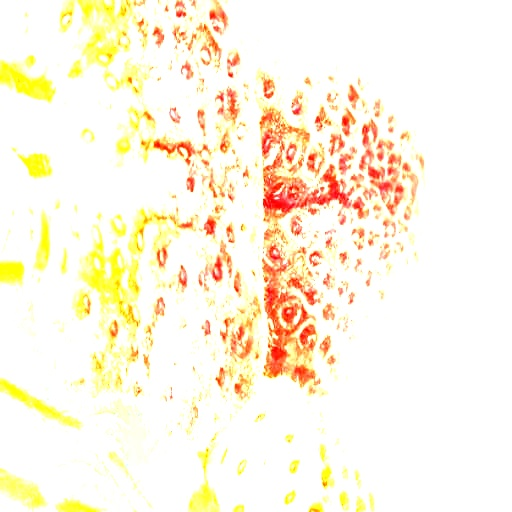Powdery Mildew Fruit: (243, 24, 432, 401)
